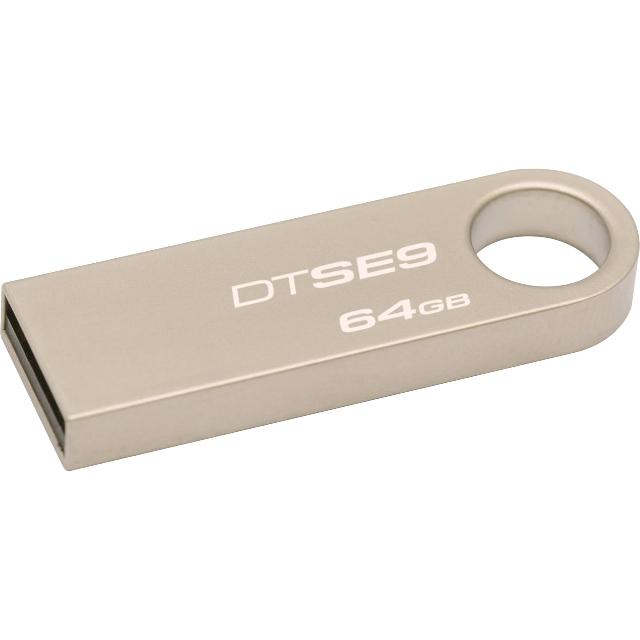USB-Flash-Drive: (0, 170, 640, 473)
